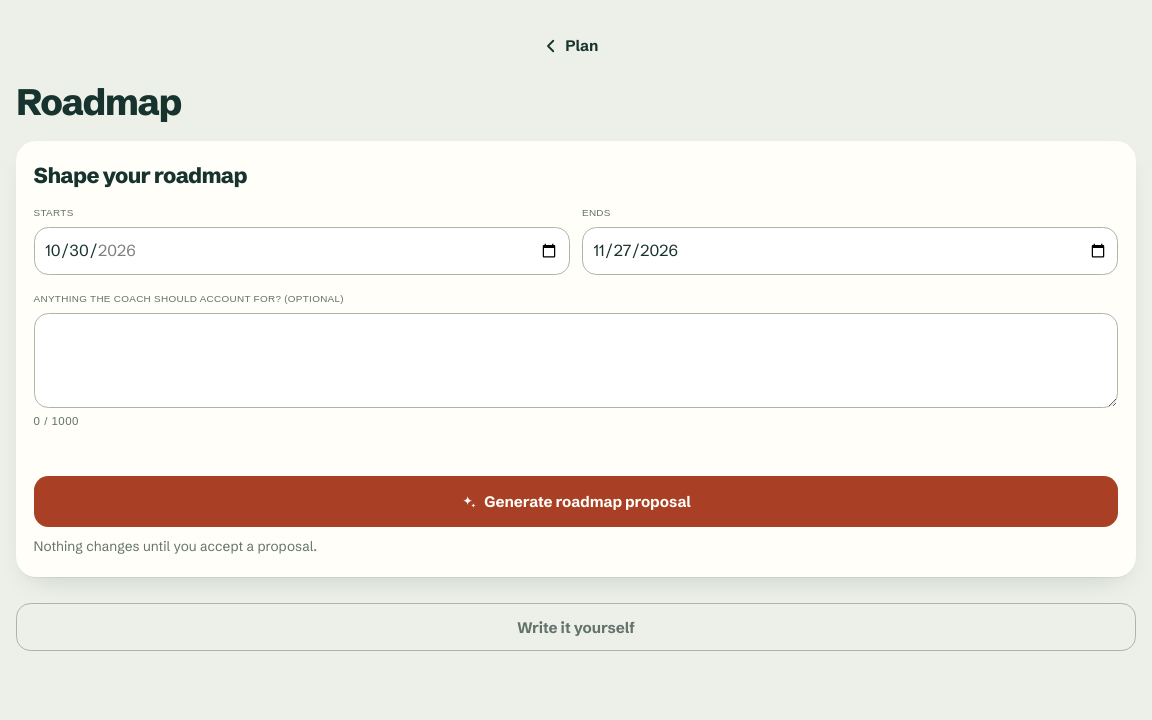
Test: Roadmap › offers to write one by hand while there is no roadmap
Check: the element that starts with "Shape your roadmap" is shown, box [16, 141, 1136, 577]
Click the button "Write it yourself". click: click(576, 627)
box: [16, 603, 1136, 651]
(page scrolled)
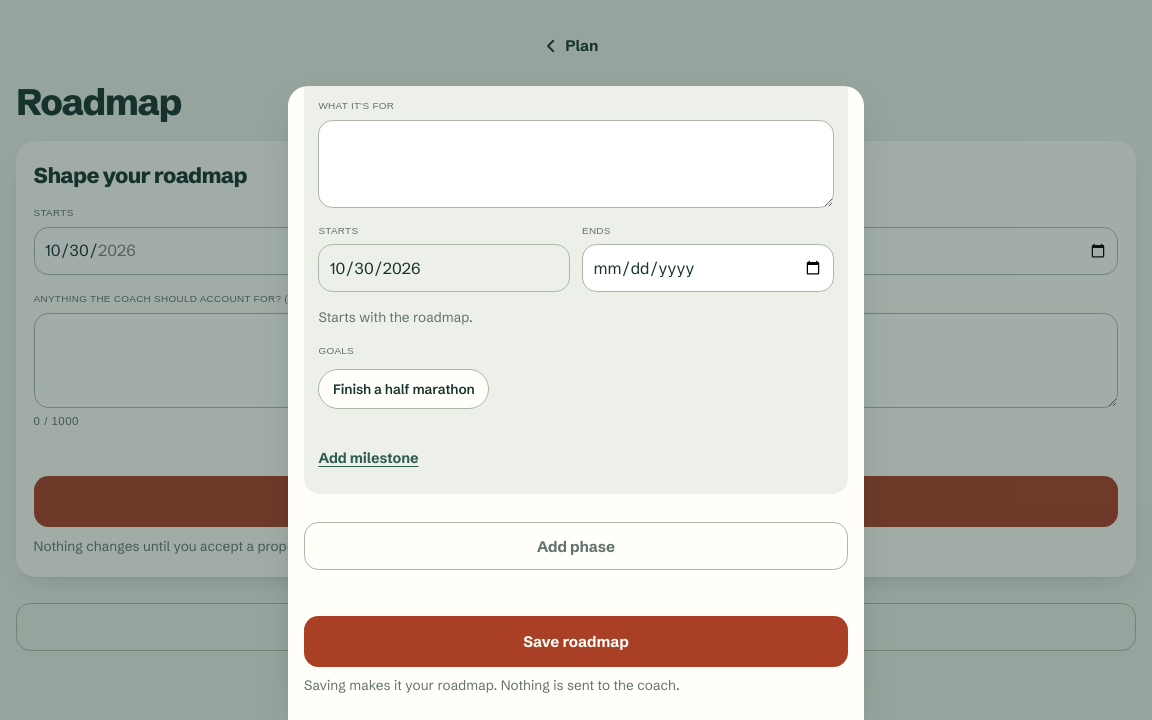
Check: the text "Saving makes it your roadmap. Nothing is sent to the coach." is shown, box [304, 677, 680, 694]
